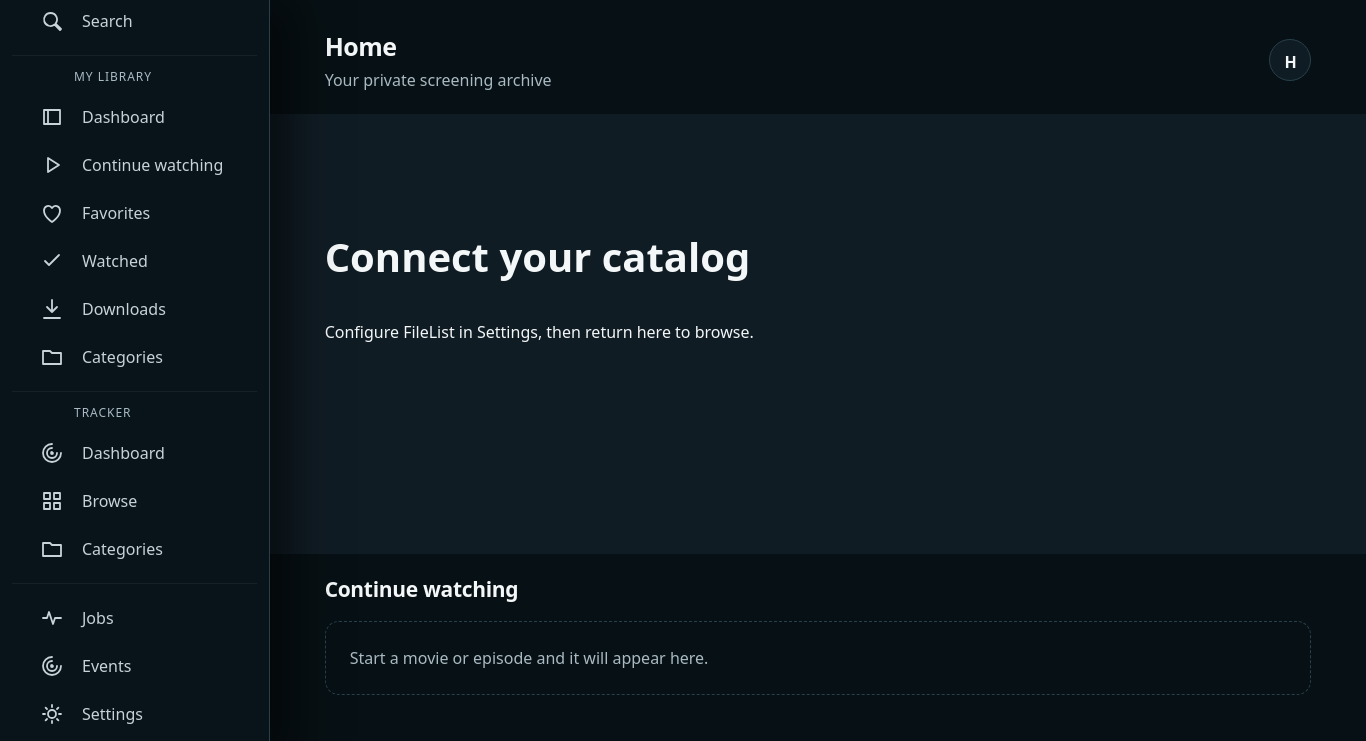
Test: settings tabs › shows catalog coverage and canonical maintenance actions on the Maintenance tab
(page scrolled)
Click the button "Settings" at (135, 714), box [12, 690, 258, 738]
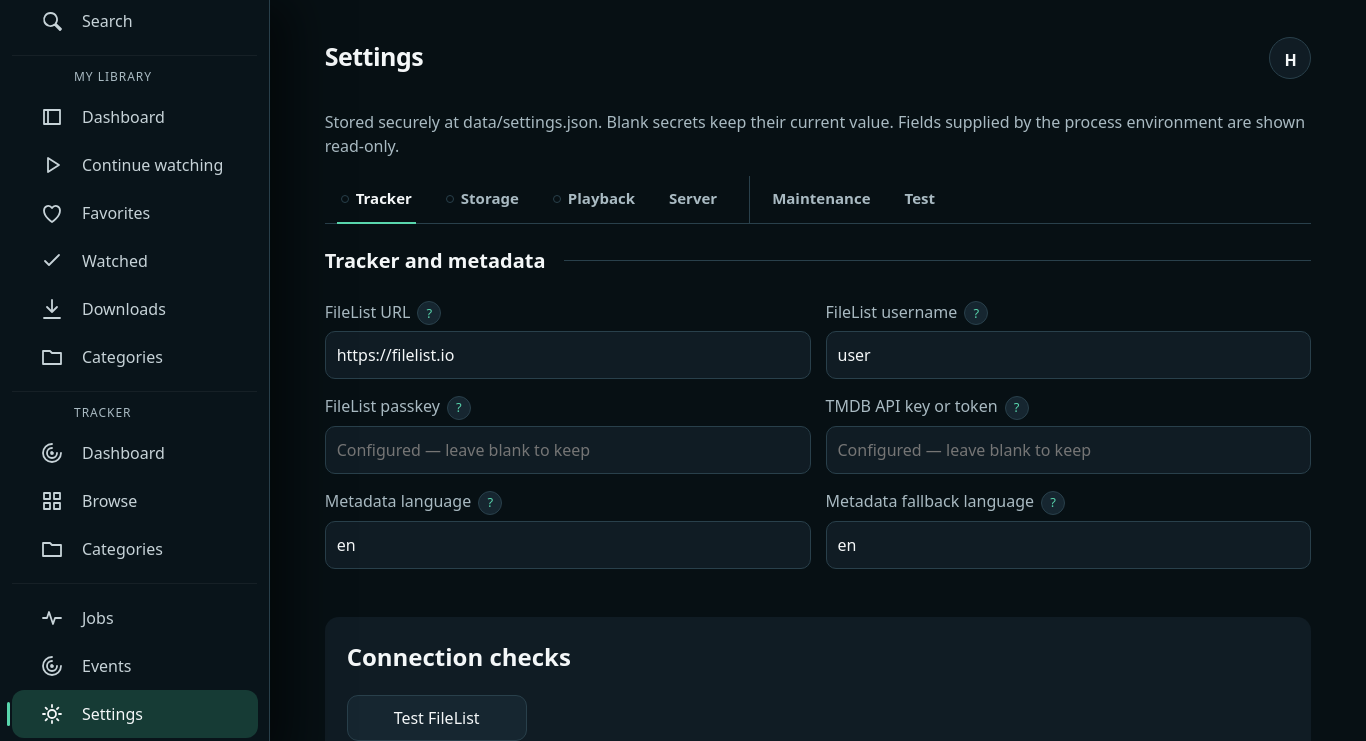
Click the tab "Maintenance" at (818, 199), box [749, 176, 886, 222]
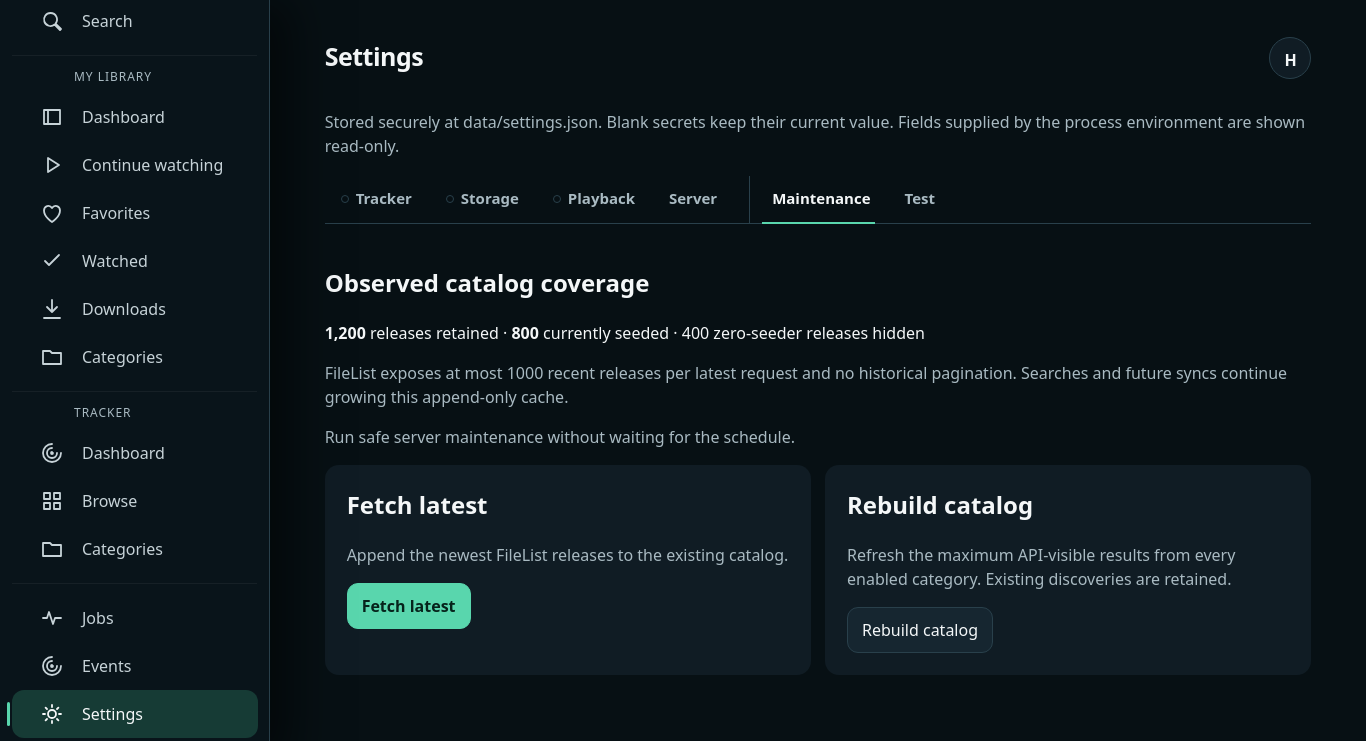
Expected: the panel with class "settings-panel" shows "releases retained", [366, 322, 512, 344]
